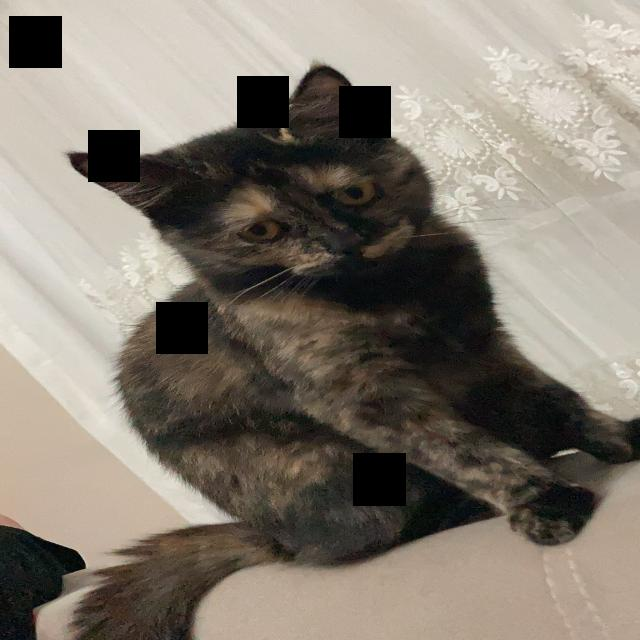authorized: (59, 63, 637, 638)
